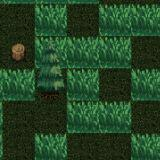Obstacle: (2, 36, 34, 68), (36, 68, 66, 100)
Slow: (35, 37, 130, 68), (67, 101, 131, 132), (99, 4, 160, 36), (0, 69, 35, 102), (67, 68, 99, 100), (35, 5, 66, 36), (131, 68, 160, 101), (34, 134, 67, 160), (132, 132, 160, 160)
